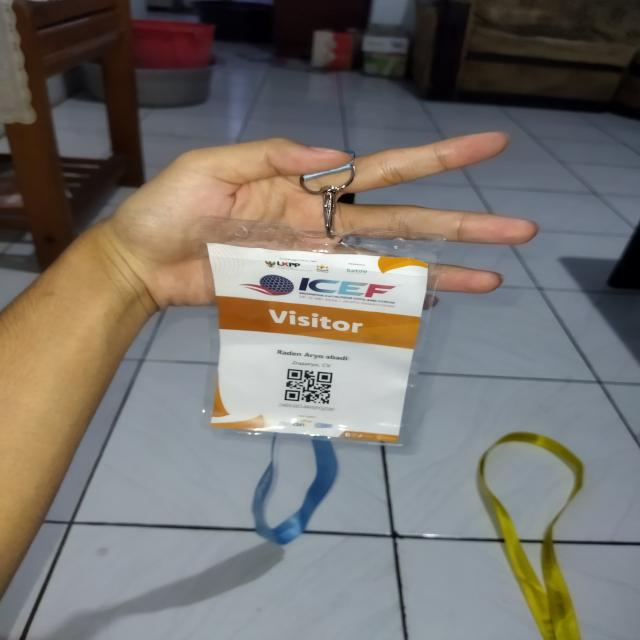ID_card: (202, 238, 432, 446)
